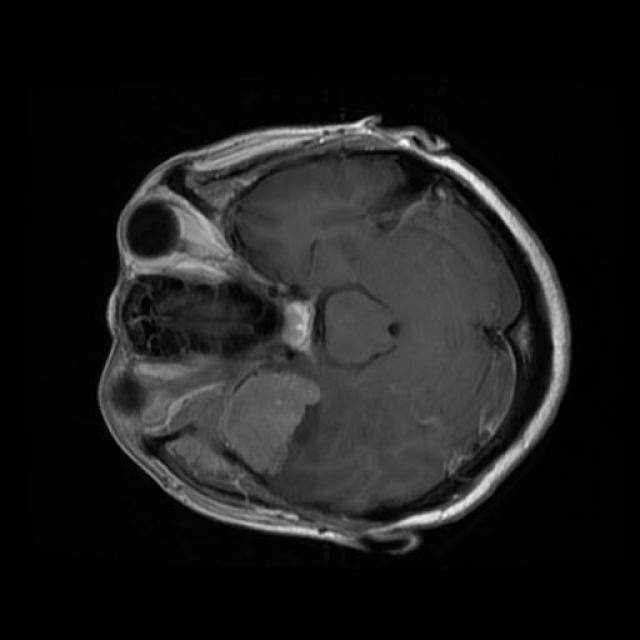Meningioma: (163, 367, 320, 500)
